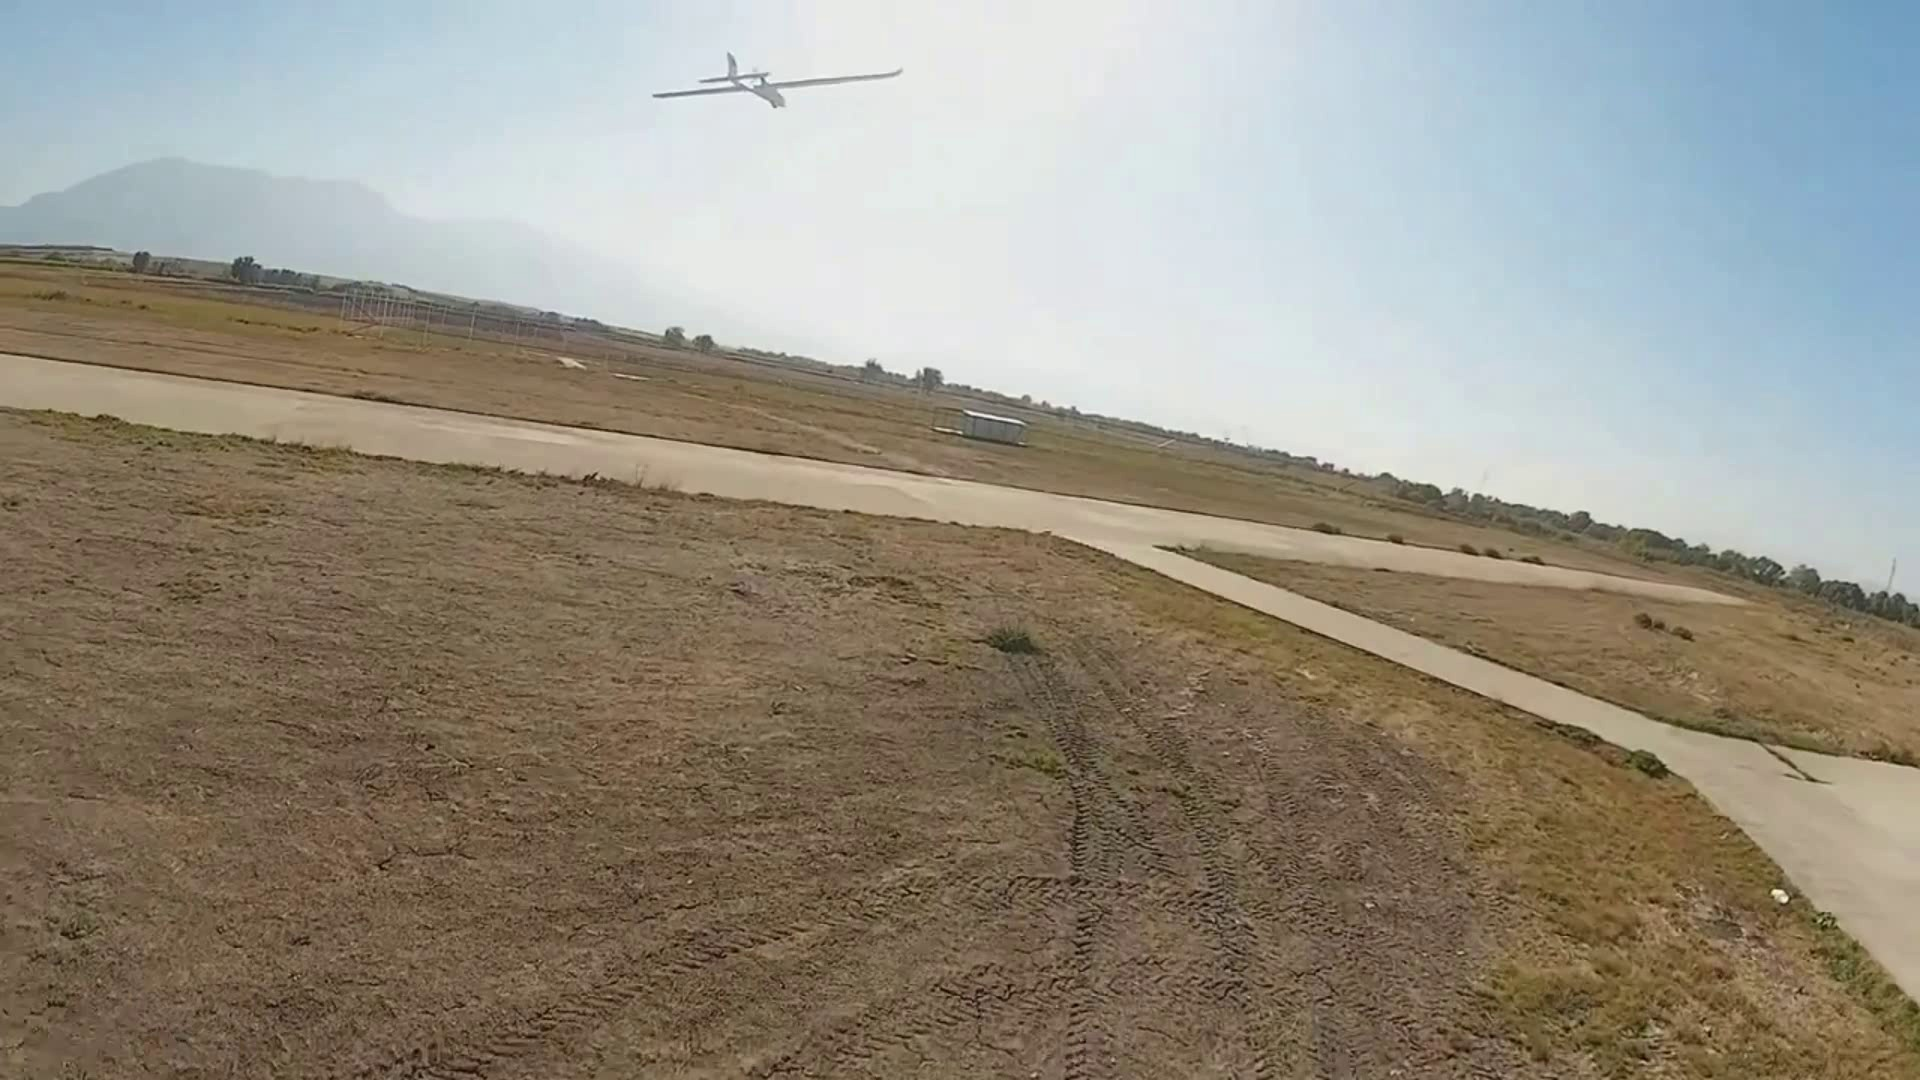airplane: (653, 49, 904, 109)
